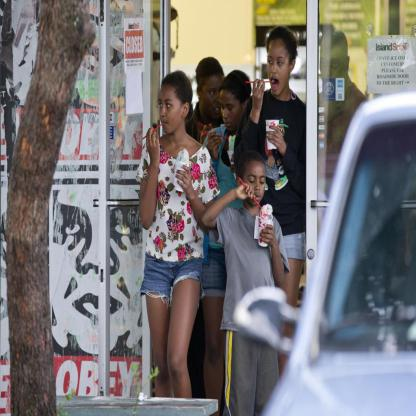face: (269, 41, 290, 97), (161, 83, 182, 133), (245, 163, 267, 209), (202, 76, 225, 118), (222, 92, 243, 132)
